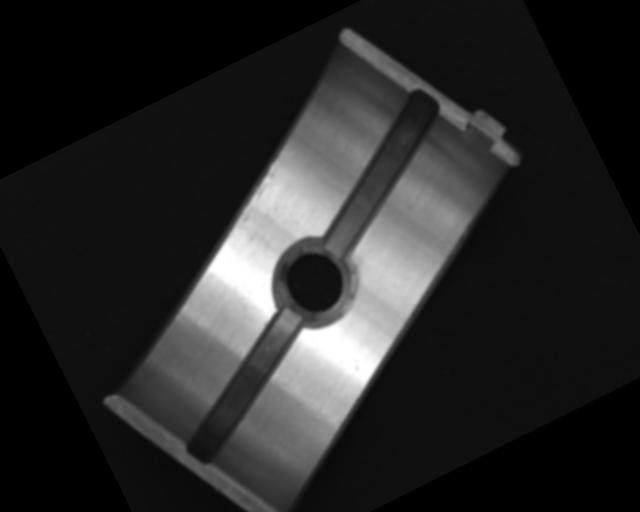gap: (281, 81, 479, 261), (152, 304, 340, 468)
hole: (267, 234, 363, 338)
